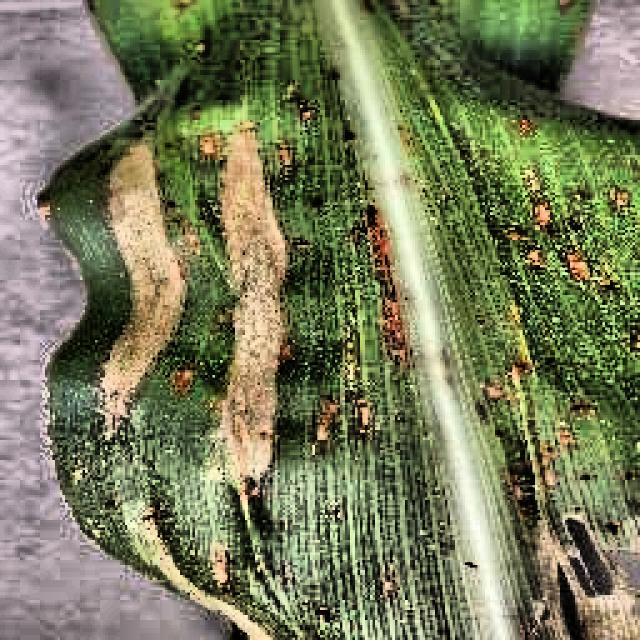blight: (58, 0, 555, 630)
